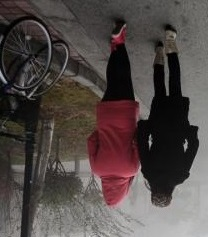person: (135, 26, 200, 208), (86, 18, 148, 206)
